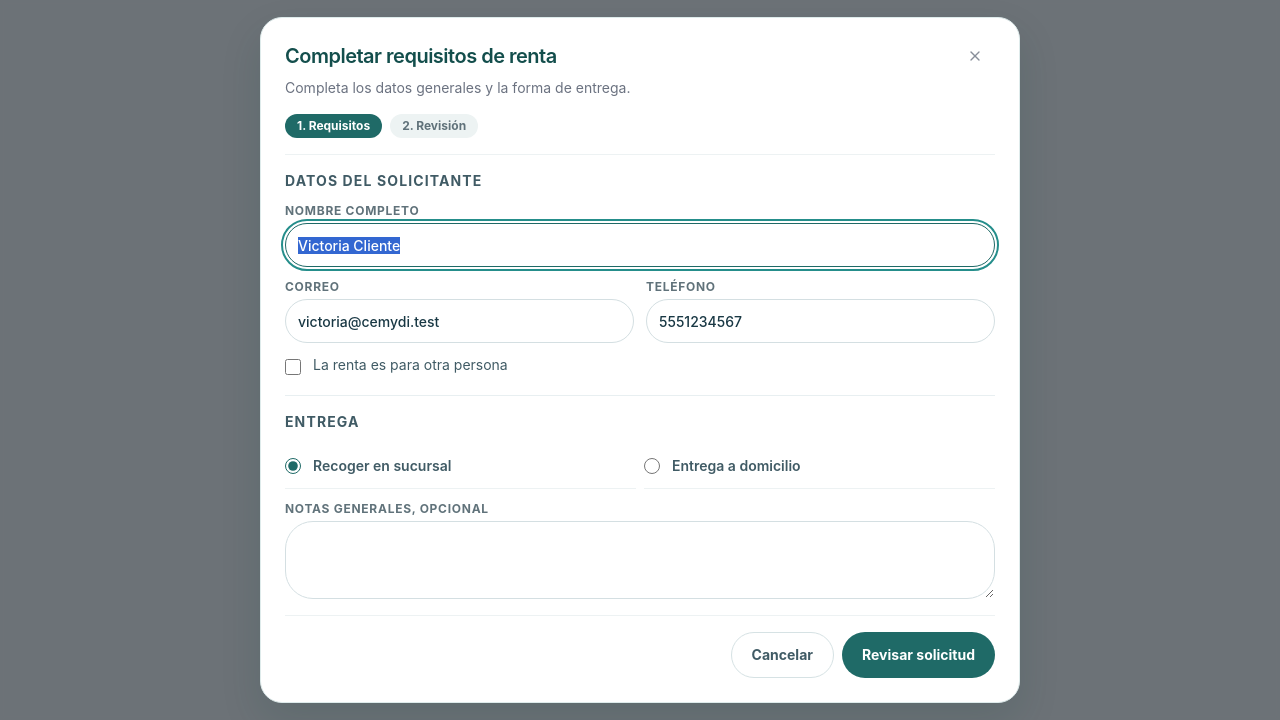
RentalRequirementsDialog › preloads the authenticated user and allows review with a missing prescription
Expected: the field labelled "Nombre completo" holds "Victoria Cliente", [285,223,995,267]
Expected: the field labelled "Correo" holds "victoria@cemydi.test", [285,299,634,343]
Click the button "Revisar solicitud" at (918, 655), box [842,632,995,678]
(page scrolled)
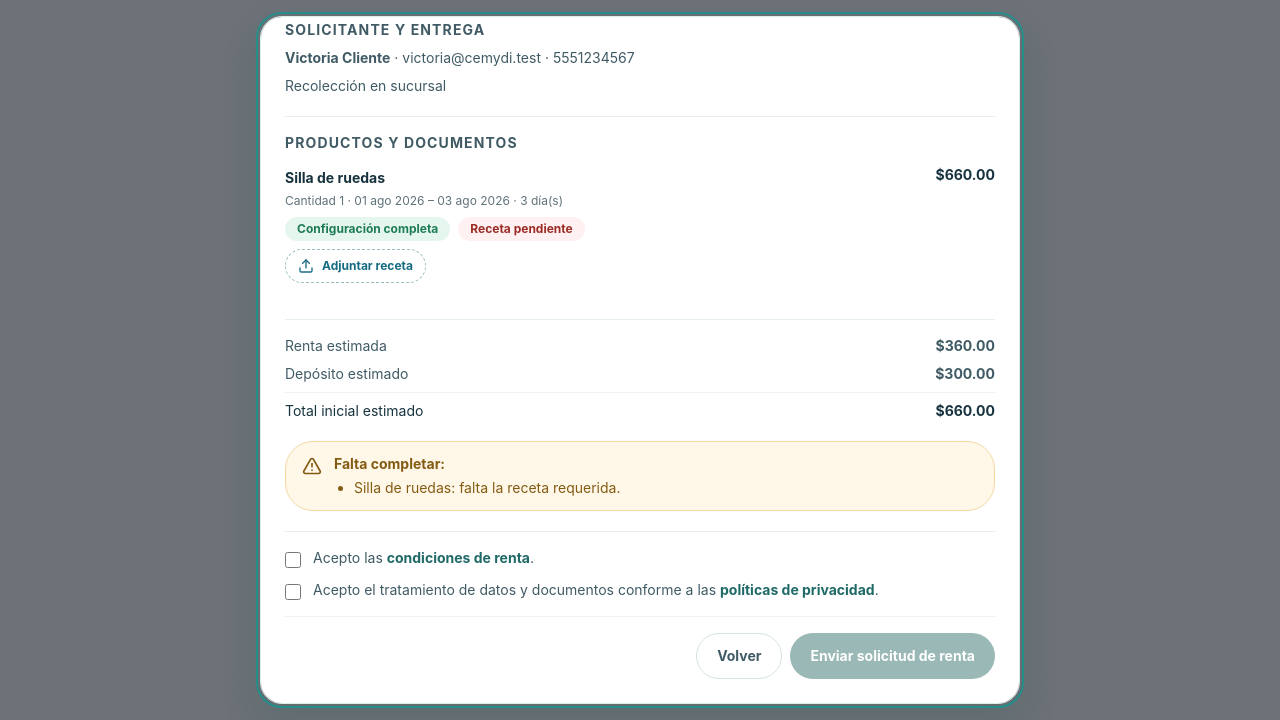
Expected: the text "Receta pendiente" is shown, [458,217,585,241]
Expected: the list item "Silla de ruedas: falta la receta requerida." is shown, [354,478,620,498]
Expected: the button "Enviar solicitud de renta" is disabled, [790,633,995,679]
